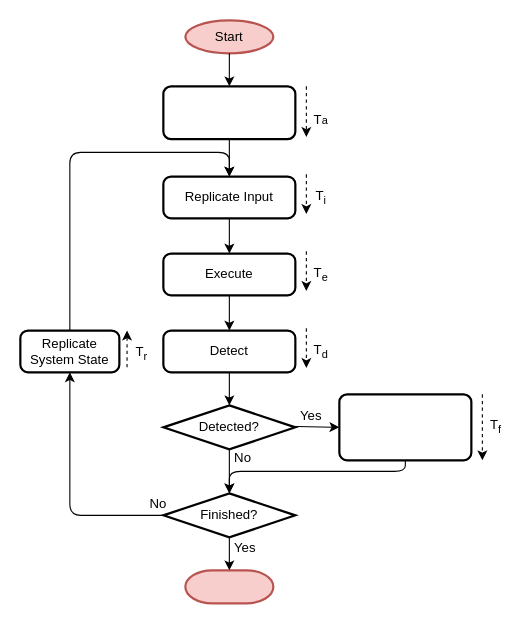
Image size: 530x623. Some labels were removed from this diagram. The shapes that lost their labels are listed below. From the top down, each one's centre as x and y in pixels, then its label:
point 229,112: Activate Active/Standby (Sub-) Systems
point 405,427: Isolate the Active and Fail-Over to a Standby (Sub-) System
point 229,586: End
